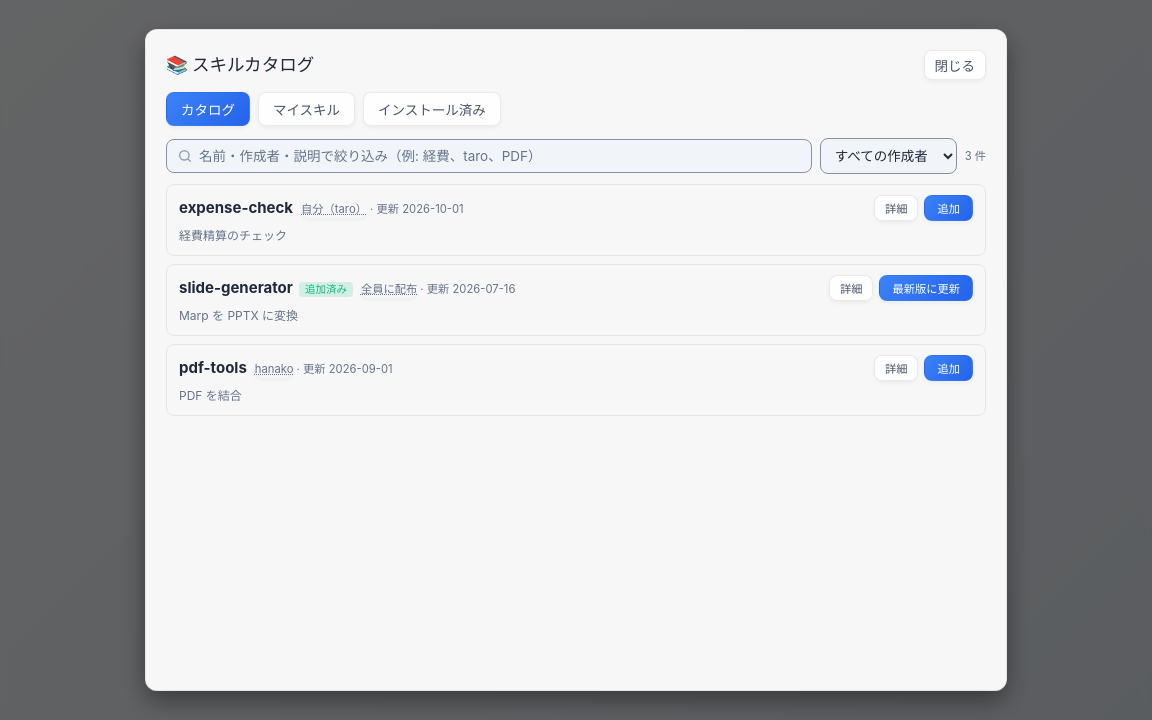
tabs: マイスキル = yours only, インストール済み = added + built-in › someone else's skill in マイスキル shows its author
expect the text "expense-check" is shown: met, box x1=179 y1=198 x2=293 y2=217
Click the button "マイスキル" at (307, 109), box x1=258 y1=92 x2=355 y2=126
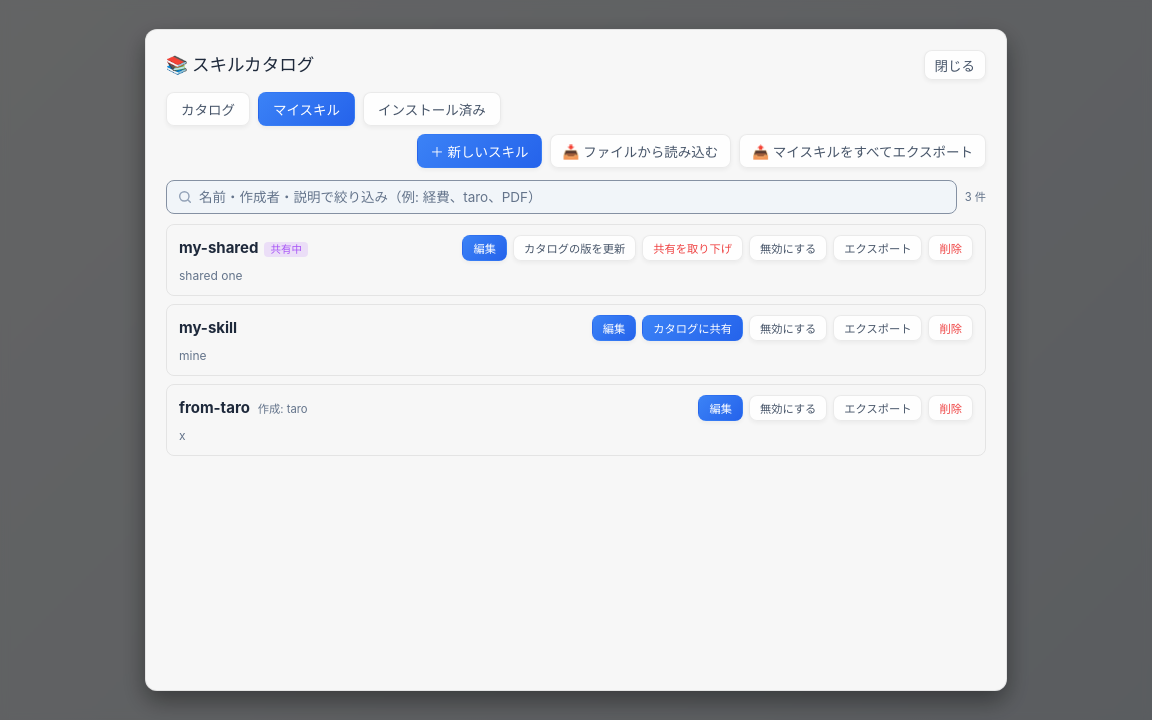
expect the text "my-skill" does not show "作成:": met
expect the text "my-skill" is shown: met, box x1=179 y1=318 x2=237 y2=337
expect the text "from-taro" shows "作成: taro": met, box x1=258 y1=402 x2=308 y2=416
